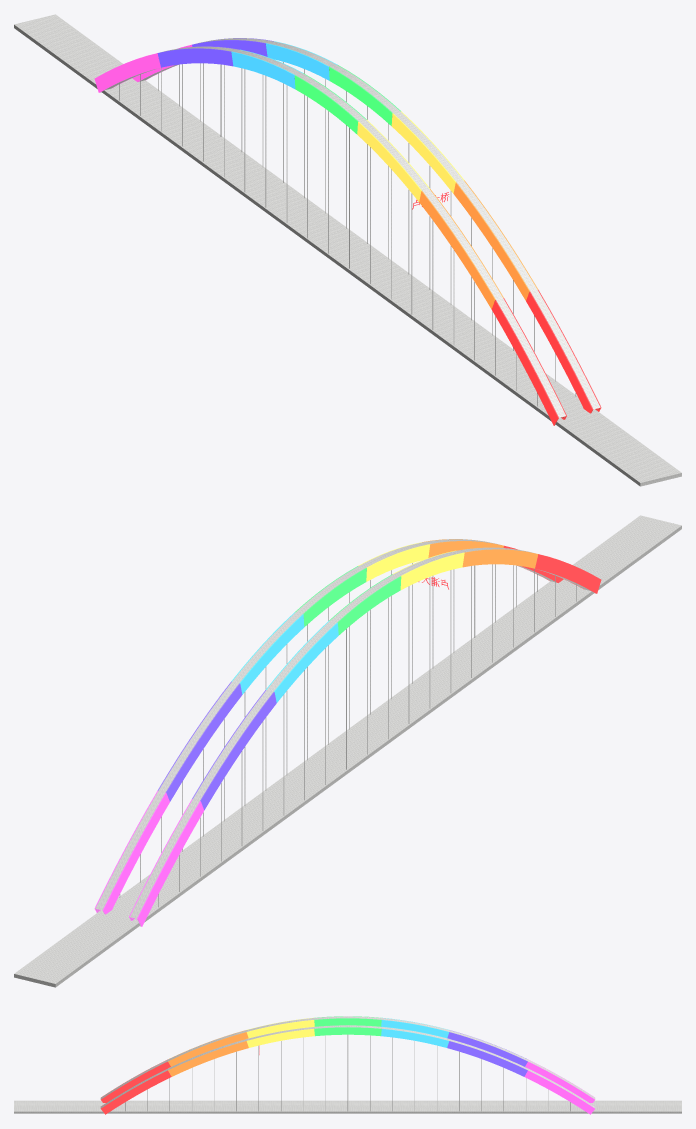
Rendered from lupu_bridge_far.glb.
3 views of the same model, one above another, from view 1: azimuth 30°, elevation 25°; view 2: azimuth 150°, elevation 25°; view 3: azimuth 270°, elevation 25° (orthographic). The views are drawn at different scales.
Parts seen in each view (by area): view 1: Lupu_Deck, Lupu_Arch, Lupu_Hangers, LED_Lupu_Arch_Ea_2, LED_Lupu_Arch_Wa_2, LED_Lupu_Arch_Wa_1, LED_Lupu_Arch_Ea_1, LED_Lupu_Arch_Wa_6, LED_Lupu_Arch_Wa_7, LED_Lupu_Arch_Wa_3, LED_Lupu_Arch_Ea_3, LED_Lupu_Arch_Ea_4 (+3 smaller); view 2: Lupu_Deck, Lupu_Arch, Lupu_Hangers, LED_Lupu_Arch_Ea_6, LED_Lupu_Arch_Wa_6, LED_Lupu_Arch_Wa_7, LED_Lupu_Arch_Ea_7, LED_Lupu_Arch_Wa_2, LED_Lupu_Arch_Wa_1, LED_Lupu_Arch_Wa_5, LED_Lupu_Arch_Ea_5, LED_Lupu_Arch_Ea_4 (+3 smaller); view 3: Lupu_Deck, Lupu_Arch, Lupu_Hangers, LED_Lupu_Arch_Eb_2, LED_Lupu_Arch_Eb_6, LED_Lupu_Arch_Eb_1, LED_Lupu_Arch_Eb_7, LED_Lupu_Arch_Wb_6, LED_Lupu_Arch_Wb_2, LED_Lupu_Arch_Eb_3, LED_Lupu_Arch_Eb_5, LED_Lupu_Arch_Eb_4 (+5 smaller).
Boxes of the visible parts, x1=… form: Lupu_Deck: x1=14, y1=14, x2=681, y2=486; Lupu_Arch: x1=100, y1=38, x2=600, y2=425; Lupu_Hangers: x1=119, y1=62, x2=576, y2=406; LED_Lupu_Arch_Ea_2: x1=453, y1=182, x2=529, y2=300; LED_Lupu_Arch_Wa_2: x1=419, y1=191, x2=495, y2=308; LED_Lupu_Arch_Wa_1: x1=491, y1=300, x2=558, y2=425; LED_Lupu_Arch_Ea_1: x1=526, y1=291, x2=593, y2=413; LED_Lupu_Arch_Wa_6: x1=157, y1=48, x2=233, y2=67; LED_Lupu_Arch_Wa_7: x1=94, y1=53, x2=160, y2=92; LED_Lupu_Arch_Wa_3: x1=357, y1=121, x2=421, y2=201; LED_Lupu_Arch_Ea_3: x1=391, y1=113, x2=456, y2=193; LED_Lupu_Arch_Ea_4: x1=329, y1=67, x2=392, y2=125; Lupu_Deck: x1=14, y1=515, x2=681, y2=987; Lupu_Arch: x1=95, y1=539, x2=595, y2=926; Lupu_Hangers: x1=119, y1=563, x2=576, y2=907; LED_Lupu_Arch_Ea_6: x1=166, y1=683, x2=242, y2=801; LED_Lupu_Arch_Wa_6: x1=200, y1=692, x2=276, y2=810; LED_Lupu_Arch_Wa_7: x1=137, y1=801, x2=204, y2=926; LED_Lupu_Arch_Ea_7: x1=102, y1=792, x2=169, y2=914; LED_Lupu_Arch_Wa_2: x1=462, y1=549, x2=538, y2=568; LED_Lupu_Arch_Wa_1: x1=535, y1=554, x2=601, y2=593; LED_Lupu_Arch_Wa_5: x1=274, y1=622, x2=338, y2=702; LED_Lupu_Arch_Ea_5: x1=239, y1=614, x2=304, y2=694; LED_Lupu_Arch_Ea_4: x1=303, y1=568, x2=366, y2=626; Lupu_Deck: x1=14, y1=1100, x2=681, y2=1113; Lupu_Arch: x1=100, y1=1016, x2=595, y2=1108; Lupu_Hangers: x1=125, y1=1035, x2=570, y2=1111; LED_Lupu_Arch_Eb_2: x1=168, y1=1041, x2=248, y2=1076; LED_Lupu_Arch_Eb_6: x1=447, y1=1041, x2=527, y2=1076; LED_Lupu_Arch_Eb_1: x1=101, y1=1070, x2=171, y2=1114; LED_Lupu_Arch_Eb_7: x1=524, y1=1070, x2=594, y2=1114; LED_Lupu_Arch_Wb_6: x1=447, y1=1032, x2=527, y2=1066; LED_Lupu_Arch_Wb_2: x1=168, y1=1032, x2=248, y2=1066; LED_Lupu_Arch_Eb_3: x1=246, y1=1029, x2=314, y2=1047; LED_Lupu_Arch_Eb_5: x1=381, y1=1029, x2=449, y2=1047; LED_Lupu_Arch_Eb_4: x1=314, y1=1027, x2=381, y2=1036.
Size of the model in its own units: 29.95 by 108 by 750.
9 materials, 1 textured.
